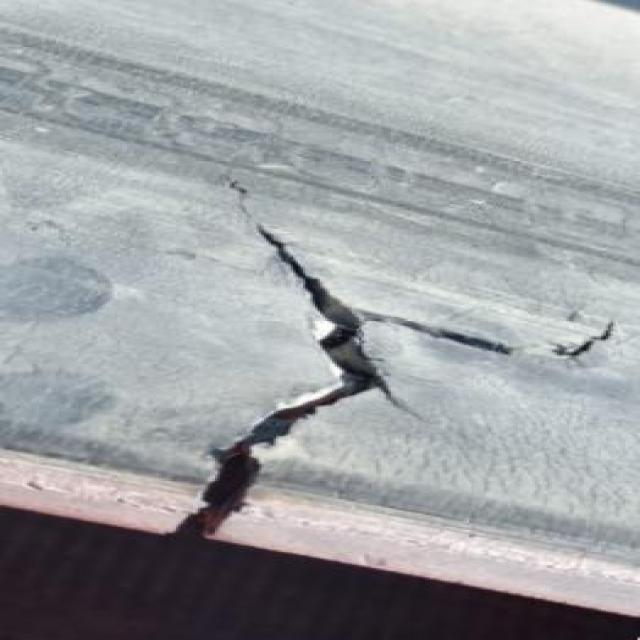Tear: (158, 172, 518, 542), (542, 315, 622, 366)
